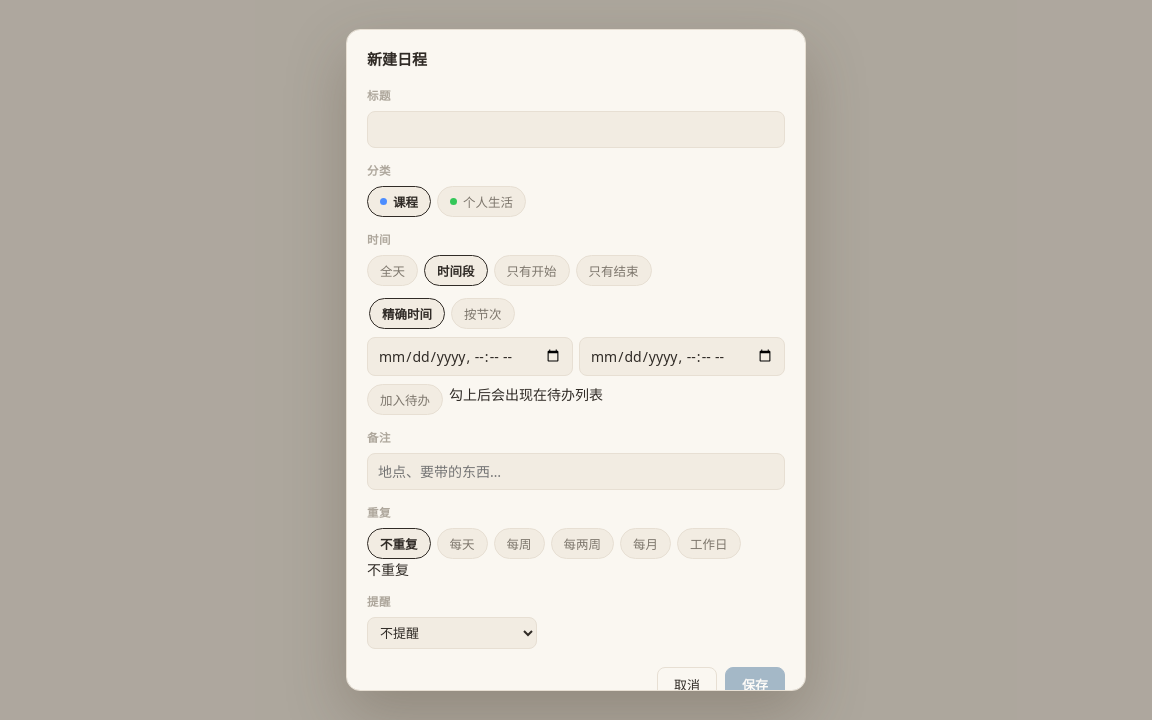
Test: ScheduleForm · 时间段下的两种填法（T19 修正） › 选第 1–2 节时预览显示 08:00–09:35
This screenshot has width=1152, height=720.
Click the radio button labelled "按节次".
click(483, 313)  # box x1=451 y1=298 x2=514 y2=329
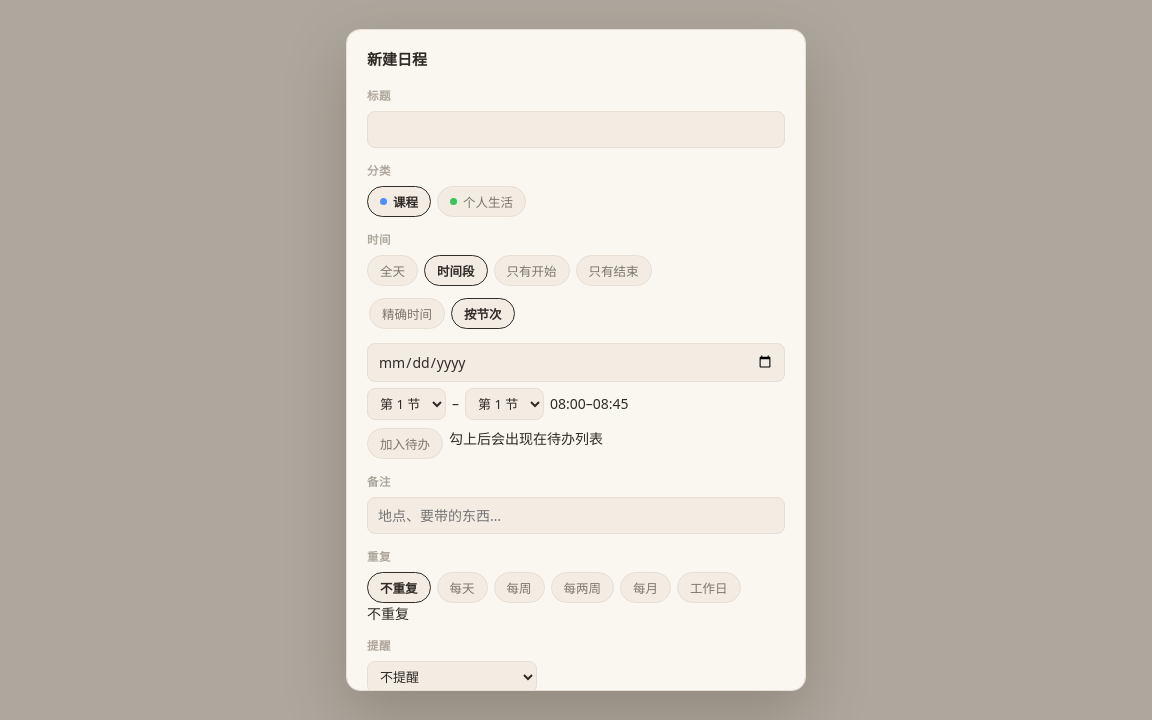
Select "第 2 节" in the dropdown named "结束节次" at (504, 404), box x1=465 y1=388 x2=544 y2=420
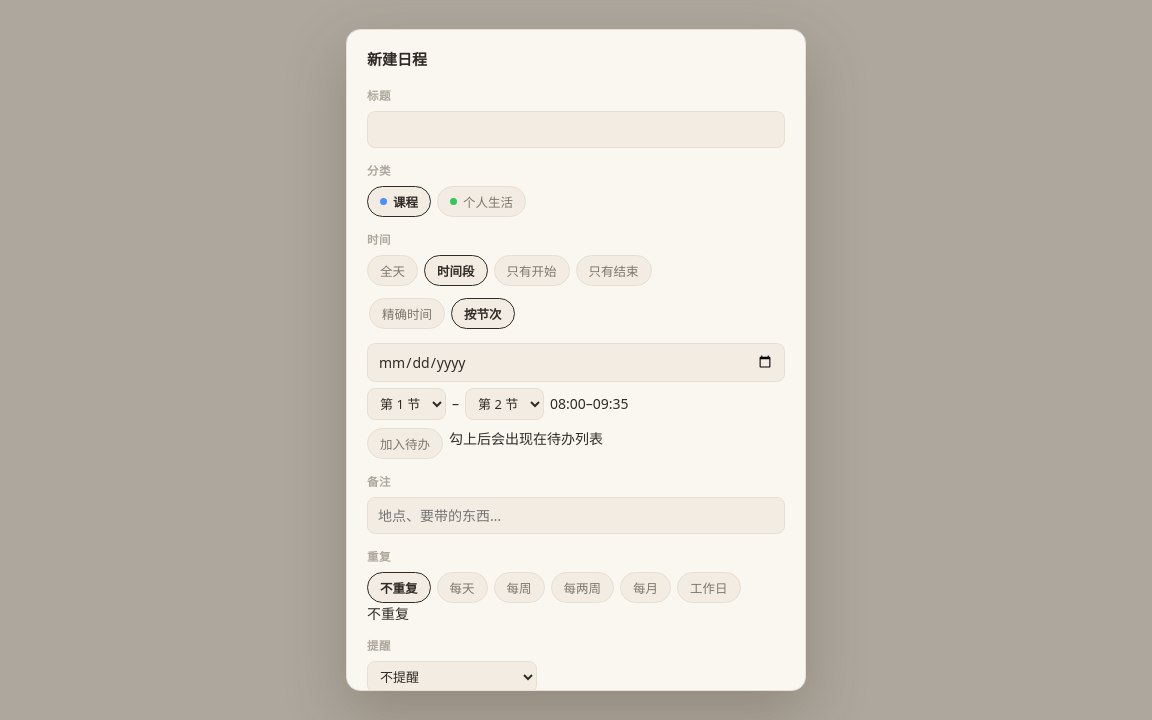
Now the text with test id "period-preview" reads "08:00–09:35", box x1=550 y1=394 x2=629 y2=413
